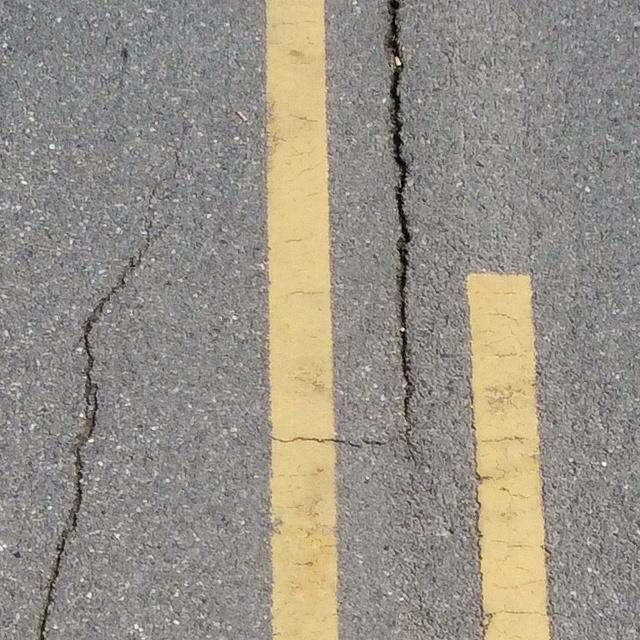LongitudinalCrack: (36, 232, 160, 640), (381, 1, 422, 445)
